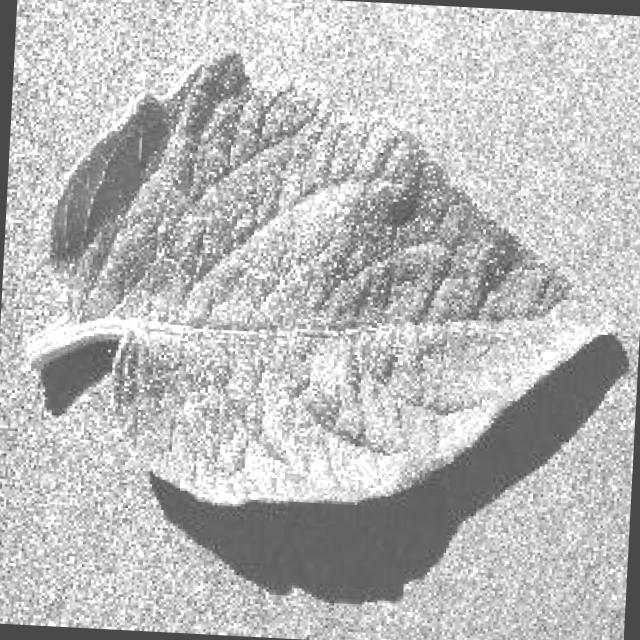healthy: (28, 47, 621, 504)
